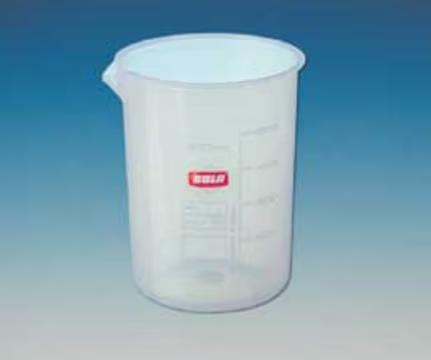Beaker: (95, 27, 307, 317)
